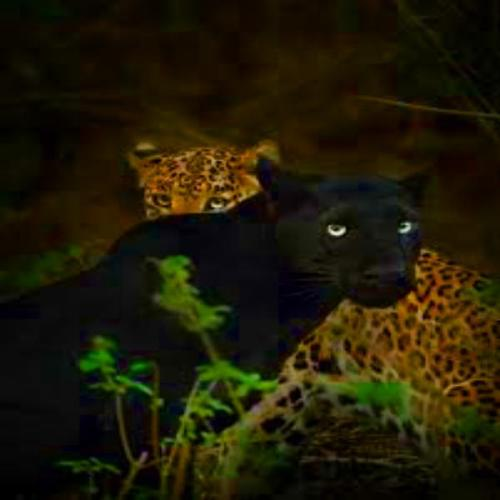panther-endangered: (0, 155, 432, 500)
